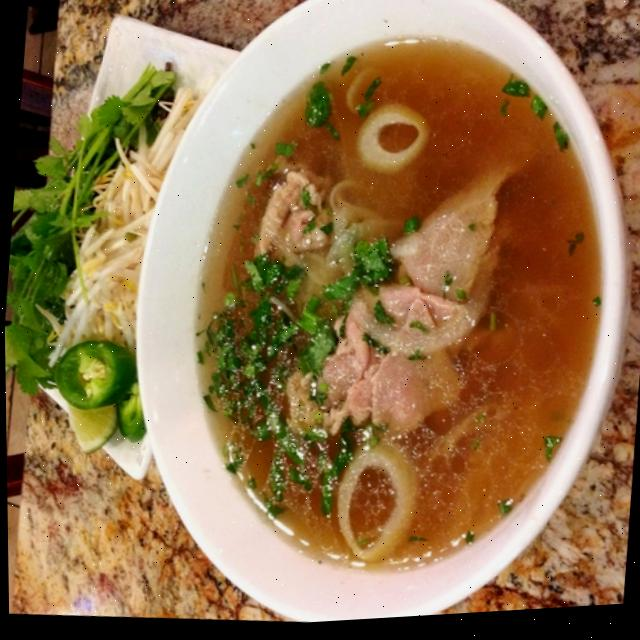面条主食: (152, 0, 627, 619)
